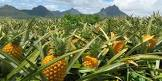Pineapple: (40, 32, 66, 81)
